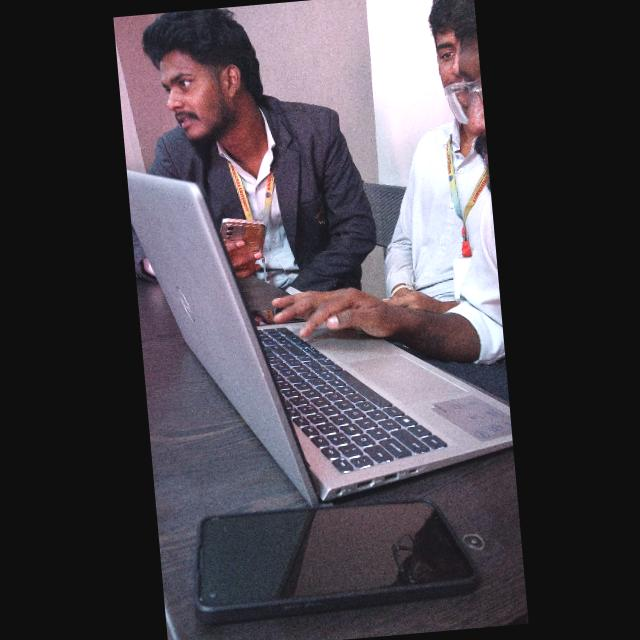laptop: (129, 128, 515, 510)
